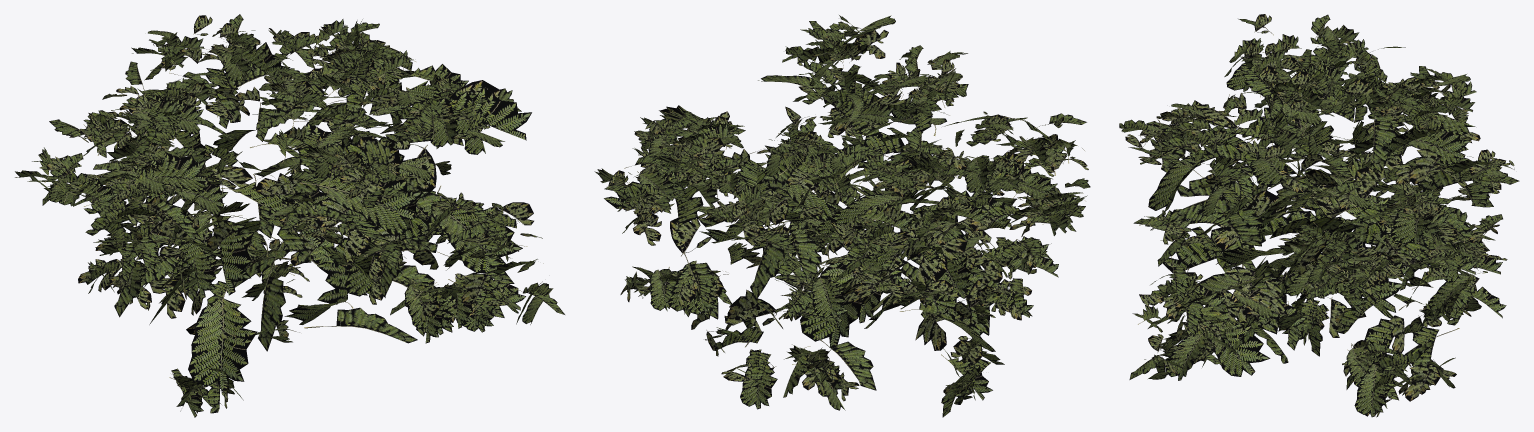
The model's file is jacaranda_tree_leaf.glb.
The picture shows the model from 3 angles, left to right: view 1: azimuth 30°, elevation 25°; view 2: azimuth 150°, elevation 25°; view 3: azimuth 270°, elevation 25°; orthographic projection. The views are drawn at different scales.
Parts seen in each view (by area): view 1: jacaranda_tree_LOD0; view 2: jacaranda_tree_LOD0; view 3: jacaranda_tree_LOD0.
Part boxes in pixels (x1,y1,x2,y2): jacaranda_tree_LOD0: (15,14,564,417); jacaranda_tree_LOD0: (594,15,1090,417); jacaranda_tree_LOD0: (1119,14,1519,417).
Bounding box in the file's own units: 25.41 × 18.27 × 19.35.
1 material, 1 textured.
